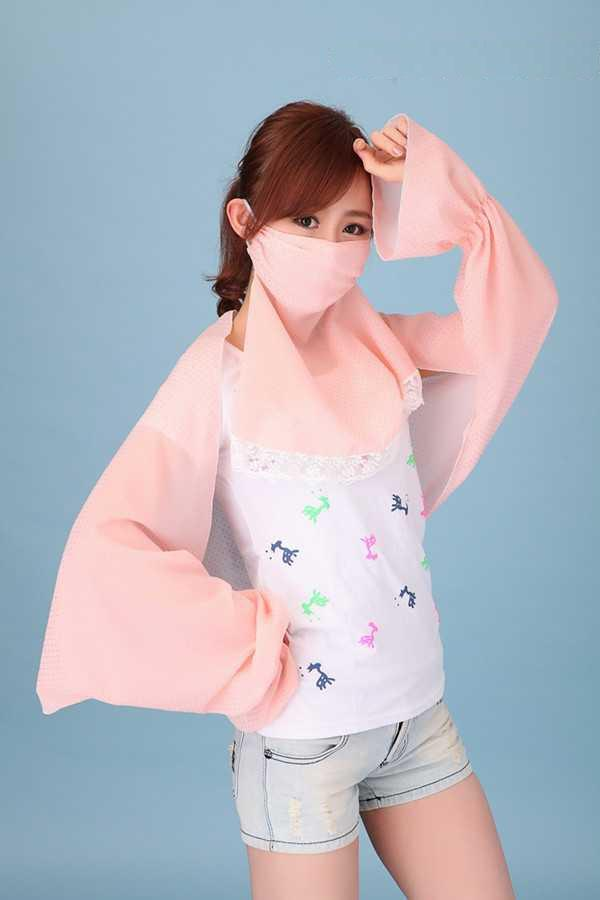OK: (261, 182, 374, 313)
